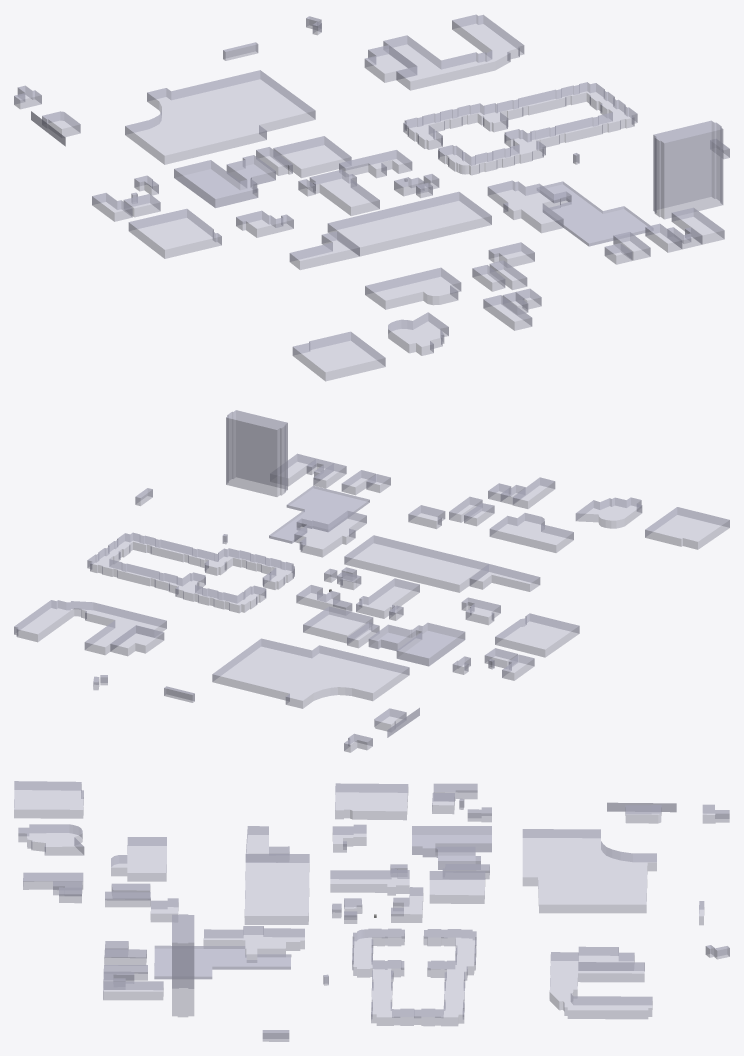
File: tile-buildings(-84.385000,33.755000,-84.380000,33.760000).osm.obj.postprocessed.obj
3 views of the same model, one above another, from view 1: azimuth 30°, elevation 25°; view 2: azimuth 150°, elevation 25°; view 3: azimuth 270°, elevation 25° (orthographic). The views are drawn at different scales.
Parts seen in each view (by area): view 1: Building_Sheraton_Atlanta_Hotel, Building_University_Commons, Building_Bethel_Towers, Building_GSU_Dorm_(Piedmont_Central), Building_Piedmont_North, Building21, Building_J_Deck, Building_One_12_Courtland, Building8, Building_Citizens_Trust_Building, Building_Centennial_Hall, SurfaceParking_J_Deck (+19 smaller); view 2: Building_Sheraton_Atlanta_Hotel, Building_University_Commons, Building_Bethel_Towers, Building_GSU_Dorm_(Piedmont_Central), Building_Piedmont_North, Building21, Building_J_Deck, Building_One_12_Courtland, Building8, Building_Citizens_Trust_Building, Building_Centennial_Hall, SurfaceParking_J_Deck (+12 smaller); view 3: Building_Sheraton_Atlanta_Hotel, Building_University_Commons, Building_Piedmont_North, Building_GSU_Dorm_(Piedmont_Central), Building_J_Deck, Building21, Building_One_12_Courtland, Building8, Building_Citizens_Trust_Building, Building_Bethel_Towers, SurfaceParking_J_Deck, Building_Centennial_Hall (+20 smaller).
Boxes of the visible parts, bbox=[...] form: Building_Sheraton_Atlanta_Hotel: bbox=[125, 70, 315, 164]; Building_University_Commons: bbox=[403, 82, 637, 175]; Building_Bethel_Towers: bbox=[653, 120, 723, 219]; Building_GSU_Dorm_(Piedmont_Central): bbox=[327, 191, 491, 256]; Building_Piedmont_North: bbox=[383, 14, 524, 90]; Building21: bbox=[174, 155, 275, 207]; Building_J_Deck: bbox=[537, 181, 652, 246]; Building_One_12_Courtland: bbox=[128, 208, 221, 258]; Building8: bbox=[292, 331, 385, 381]; Building_Citizens_Trust_Building: bbox=[487, 180, 571, 233]; Building_Centennial_Hall: bbox=[365, 267, 461, 309]; SurfaceParking_J_Deck: bbox=[547, 185, 646, 245]; Building_Sheraton_Atlanta_Hotel: bbox=[212, 638, 409, 708]; Building_University_Commons: bbox=[87, 532, 294, 613]; Building_Bethel_Towers: bbox=[226, 410, 287, 496]; Building_GSU_Dorm_(Piedmont_Central): bbox=[344, 535, 488, 592]; Building_Piedmont_North: bbox=[14, 600, 166, 654]; Building21: bbox=[368, 622, 465, 666]; Building_J_Deck: bbox=[269, 485, 369, 543]; Building_One_12_Courtland: bbox=[495, 613, 579, 657]; Building8: bbox=[645, 507, 729, 549]; Building_Citizens_Trust_Building: bbox=[294, 510, 366, 557]; Building_Centennial_Hall: bbox=[489, 513, 573, 552]; SurfaceParking_J_Deck: bbox=[270, 488, 369, 543]; Building_Sheraton_Atlanta_Hotel: bbox=[522, 829, 656, 913]; Building_University_Commons: bbox=[352, 928, 476, 1026]; Building_Piedmont_North: bbox=[549, 952, 652, 1019]; Building_GSU_Dorm_(Piedmont_Central): bbox=[244, 854, 309, 924]; Building_J_Deck: bbox=[154, 945, 291, 979]; Building21: bbox=[412, 826, 491, 869]; Building_One_12_Courtland: bbox=[335, 783, 408, 820]; Building8: bbox=[14, 781, 83, 818]; Building_Citizens_Trust_Building: bbox=[203, 926, 304, 962]; Building_Bethel_Towers: bbox=[172, 914, 194, 1017]; SurfaceParking_J_Deck: bbox=[154, 949, 290, 978]; Building_Centennial_Hall: bbox=[111, 837, 166, 881].
Bounding box in the file's own units: 458 × 63.7 × 551.
